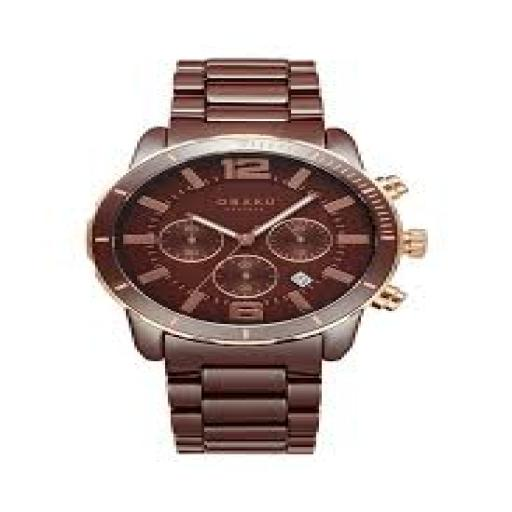KolSaati: (51, 34, 454, 459)
